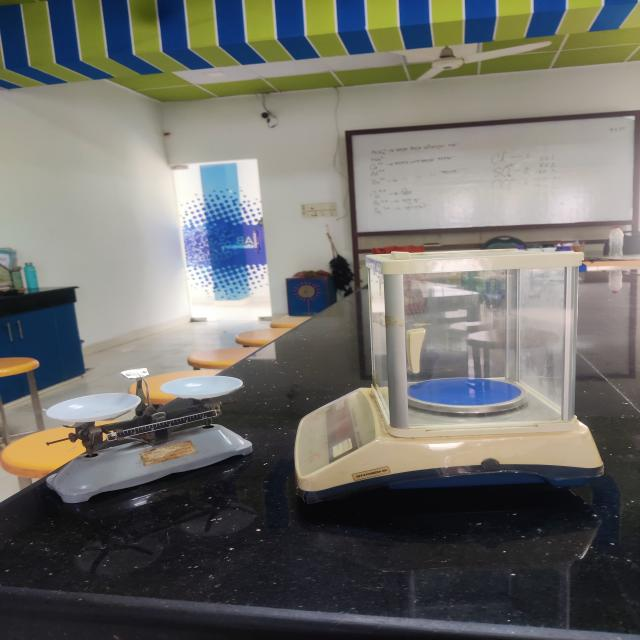Mechanical_Balance_Scale: (24, 367, 264, 513)
Precision_Weight_Scale: (285, 230, 615, 534)
